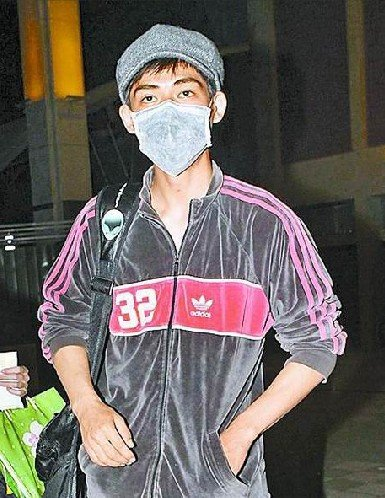face_mask: (130, 52, 210, 169)
